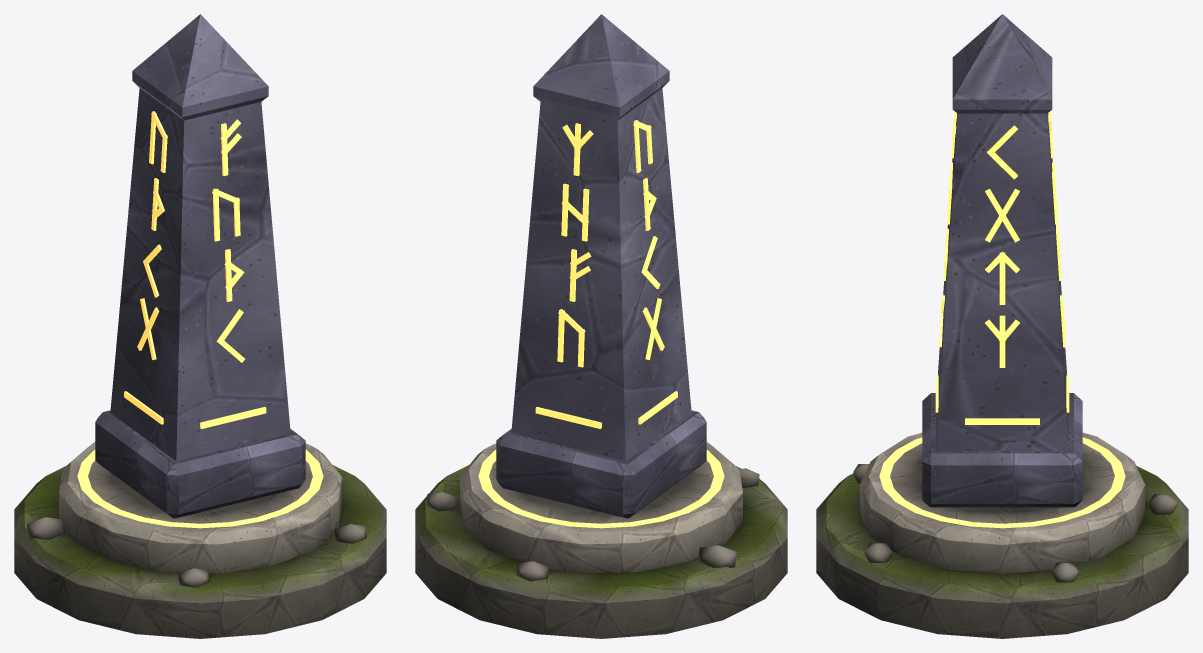
The model's file is waystone.glb.
3 renders of one model, left to right at view 1: azimuth 30°, elevation 25°; view 2: azimuth 150°, elevation 25°; view 3: azimuth 270°, elevation 25°, orthographic.
Visible parts, largest first — view 1: waystone; view 2: waystone; view 3: waystone.
Boxes of the visible parts, x1,y1,x2,y2 form: waystone: (14, 14, 386, 638); waystone: (415, 14, 787, 638); waystone: (816, 14, 1188, 638).
Bounding box in the file's own units: 2.12 × 3.37 × 2.09.
Materials: 3 (2 with a texture image).
